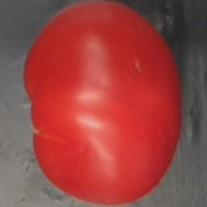unripe: (20, 0, 186, 207)
